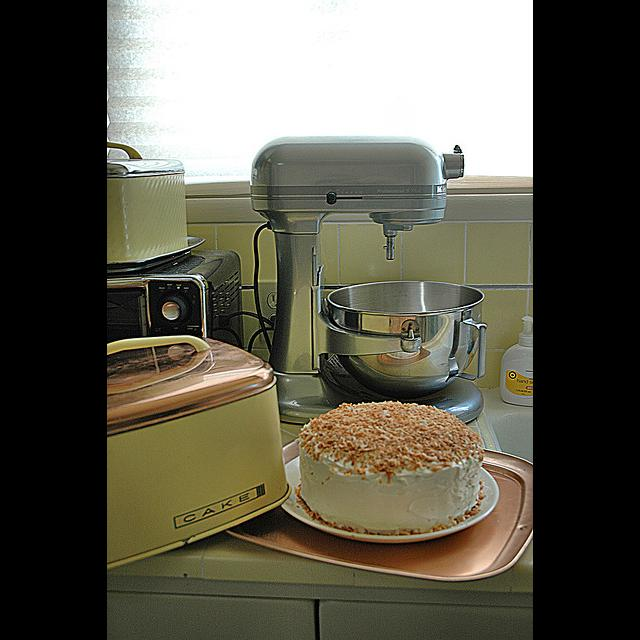Microwave: (108, 248, 247, 352)
